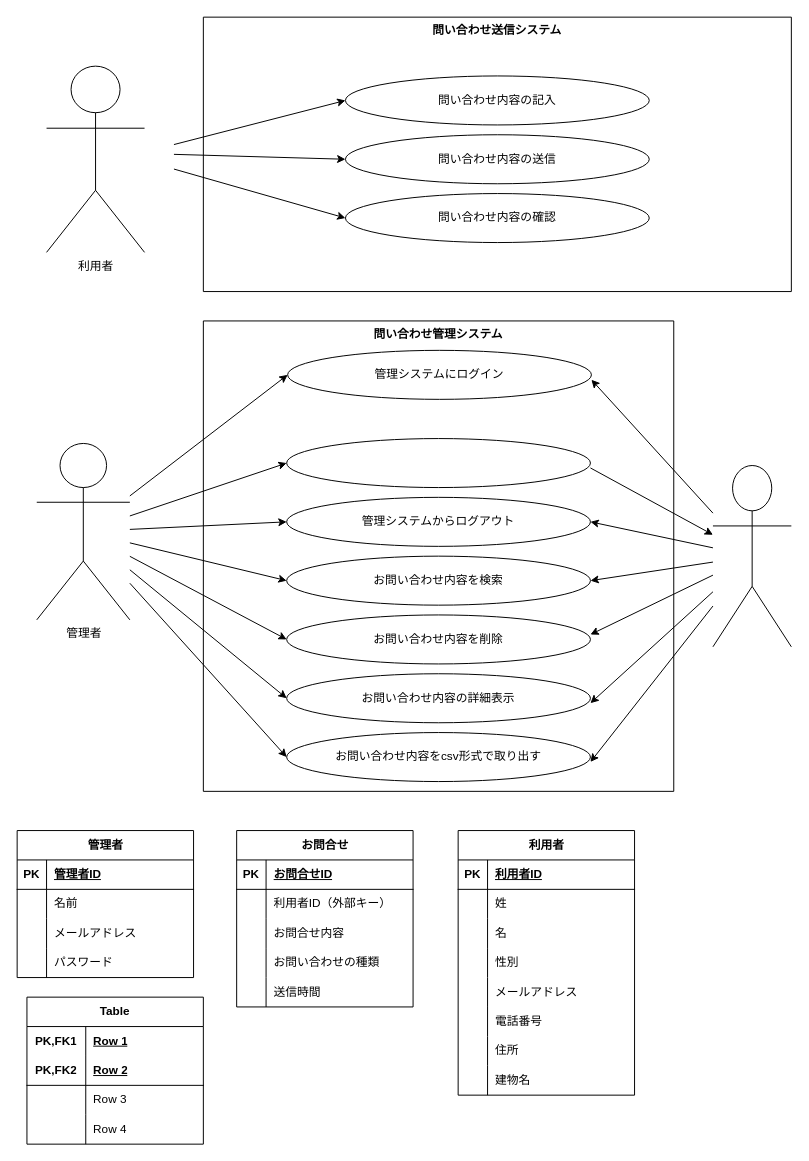
This 809x1161 diagram has some shape labels left out. The centre of each missing label's shape, as x and y in pixels:
"新規ユーザーの作成・登録" goes at (x=438, y=463).
"新規管理者" goes at (x=751, y=556).
